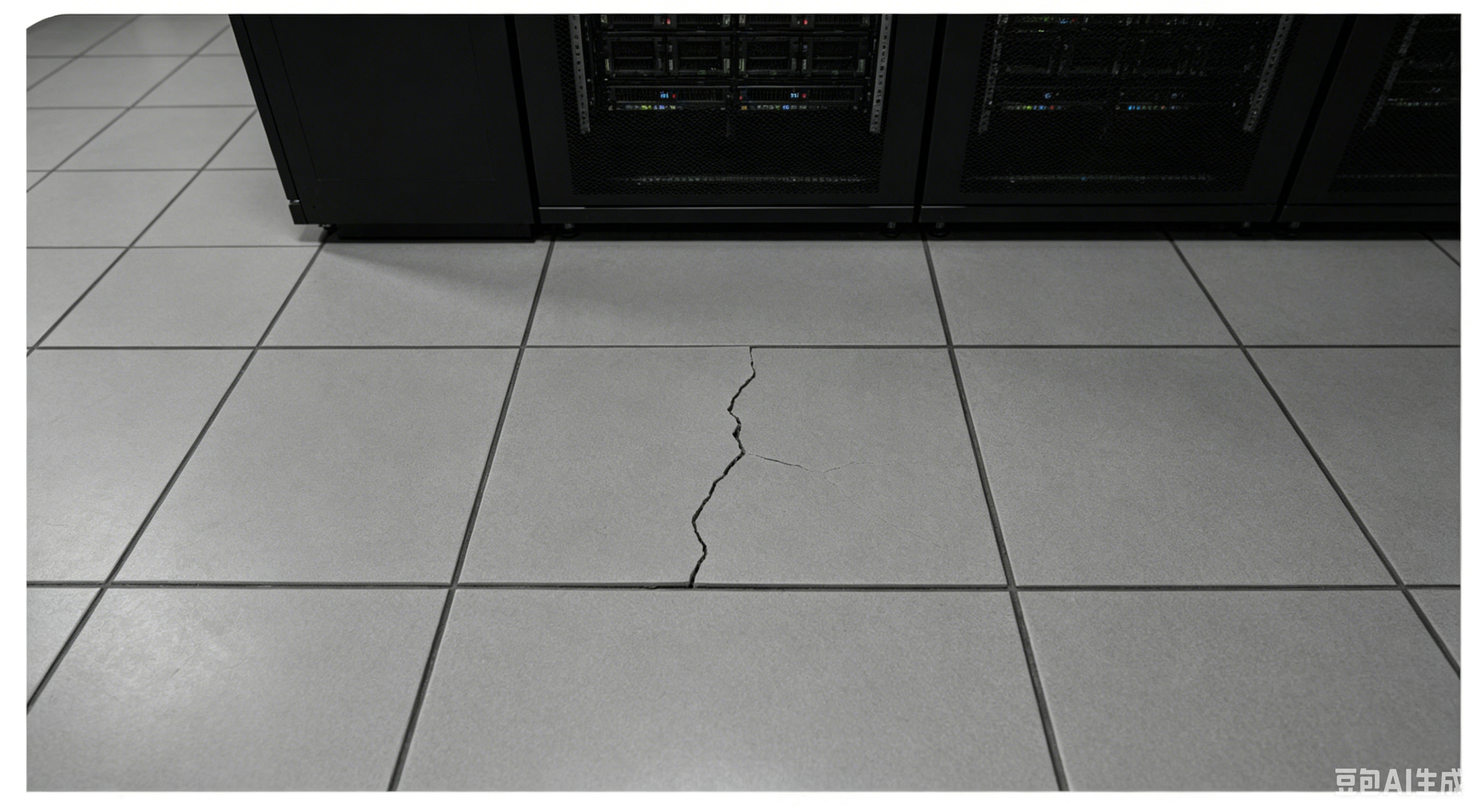floor_defect: (683, 346, 753, 587)
